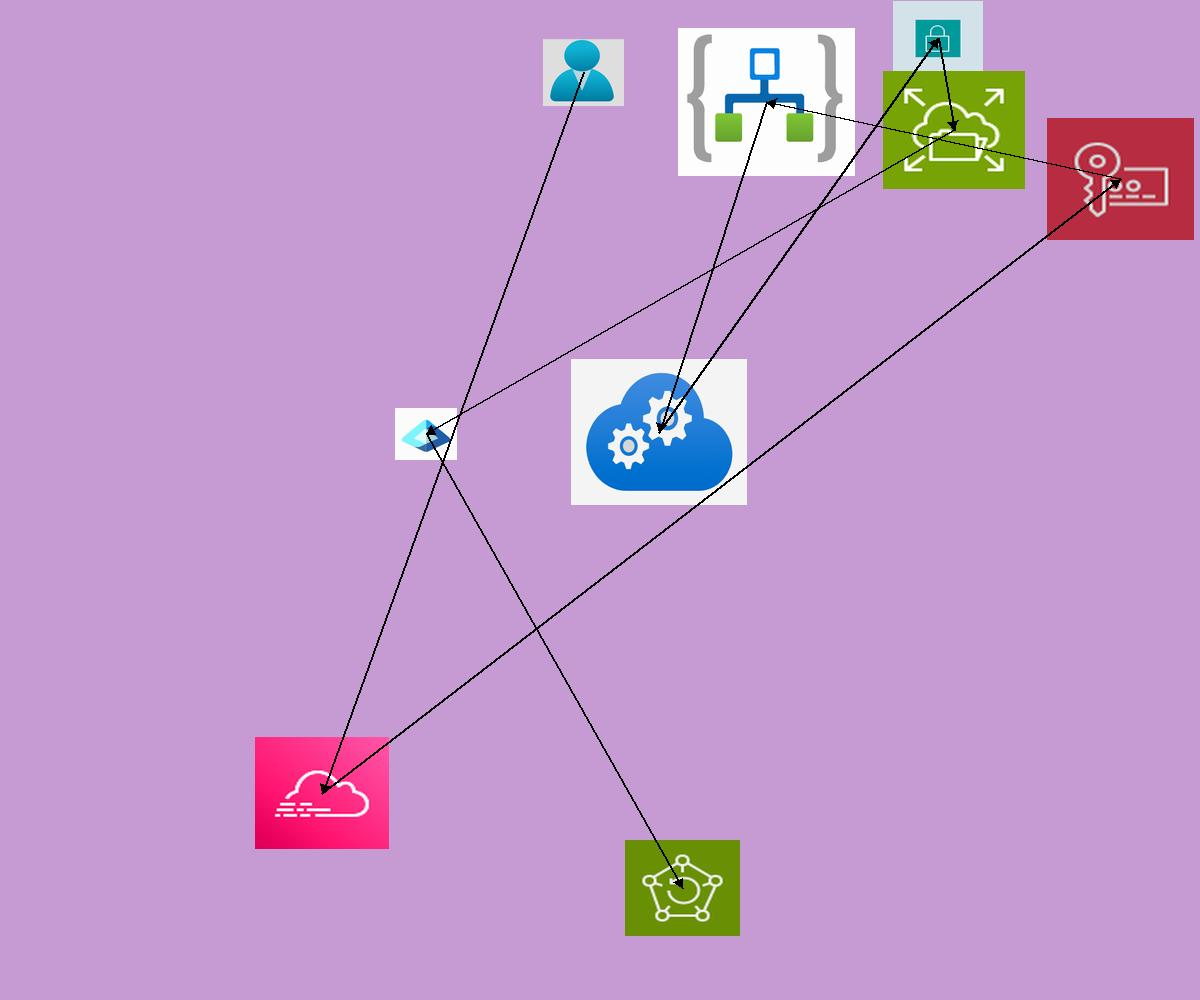AWS-Backup: (625, 840, 740, 936)
AWS-CloudTrail: (255, 737, 389, 849)
AWS-EFS: (883, 71, 1025, 189)
AWS-Key-Management-Service: (1047, 118, 1194, 240)
AWS-Private-subnet: (893, 1, 983, 76)
Azure_cloud_services: (571, 359, 747, 505)
Azure_integration-204-Logic-Apps: (678, 28, 855, 176)
Azure_microsoft_entra: (395, 408, 457, 460)
Azure_users: (543, 39, 624, 106)
